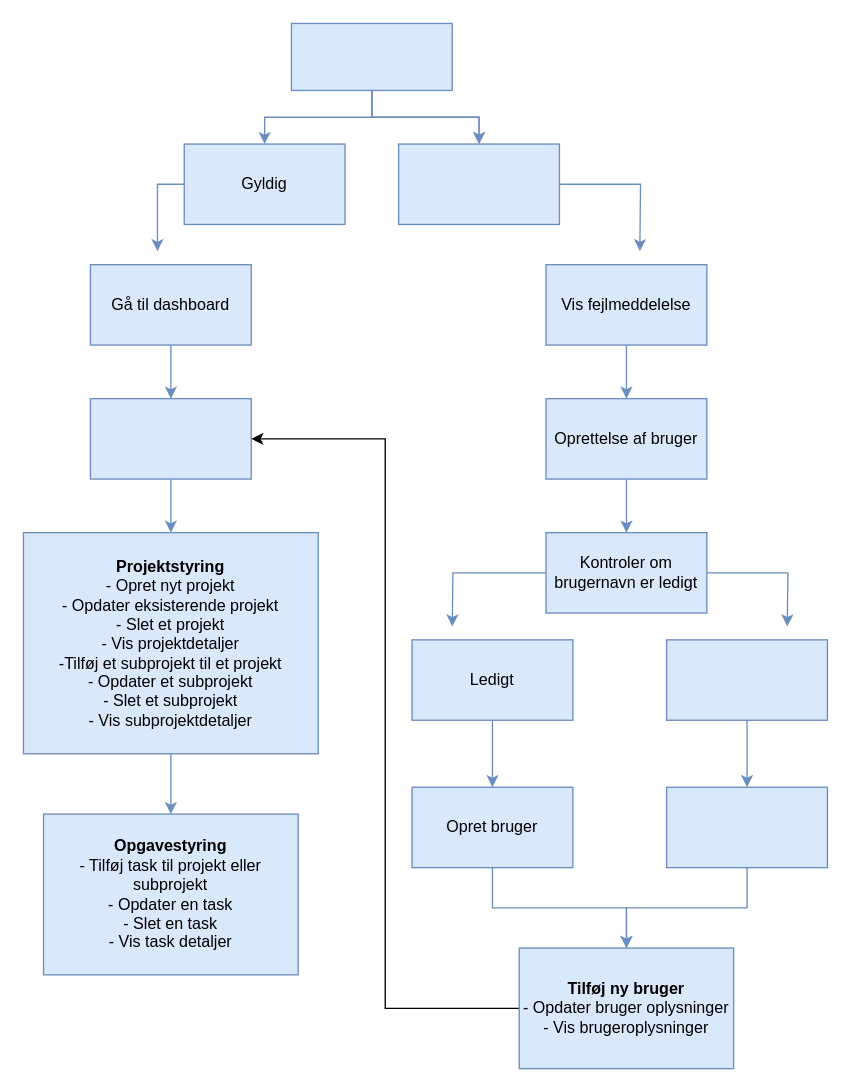
The diagram is 851 pixels wide and 1092 high, and some of its shapes have lost their labels. Here are the shapes that lost their labels. From the top down, the centre of each, then its label:
(x=371, y=56): Brugergodkendelse
(x=478, y=183): Ugyldig
(x=170, y=438): Dashboard visning Vis alle projekter
(x=746, y=679): Optaget
(x=746, y=827): Vis fejlmeddelelse og bed om nyt brugernavn
